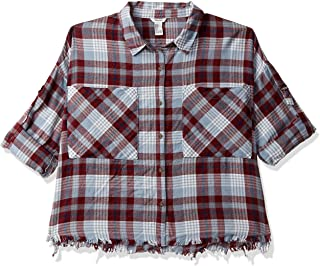shirt: (10, 1, 315, 245)
